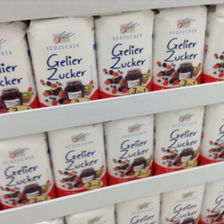tomato_sauce: (25, 18, 98, 106), (96, 11, 154, 100), (152, 6, 206, 91), (49, 124, 108, 201), (1, 133, 55, 211), (104, 113, 155, 186), (155, 105, 202, 172), (1, 22, 37, 108)
